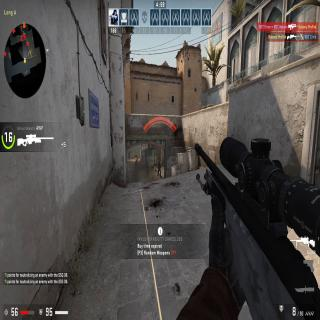CT-Body: (157, 160, 161, 175), (146, 161, 149, 175), (135, 154, 137, 166), (128, 149, 130, 159)
CT-Head: (135, 154, 137, 157), (146, 160, 148, 163), (158, 160, 160, 162), (128, 150, 130, 152)
